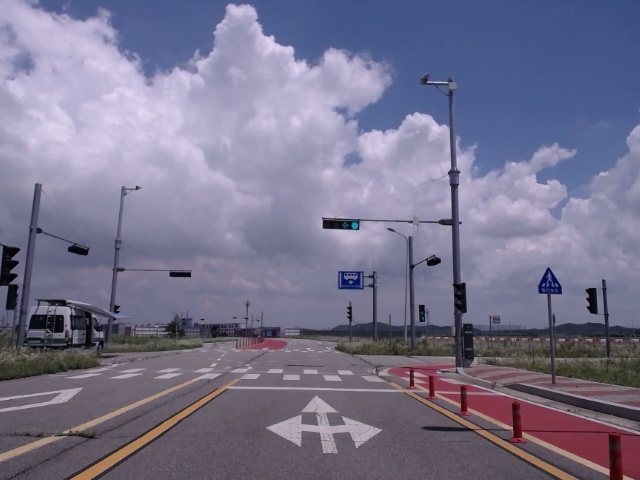all_green_4: (321, 217, 361, 229)
